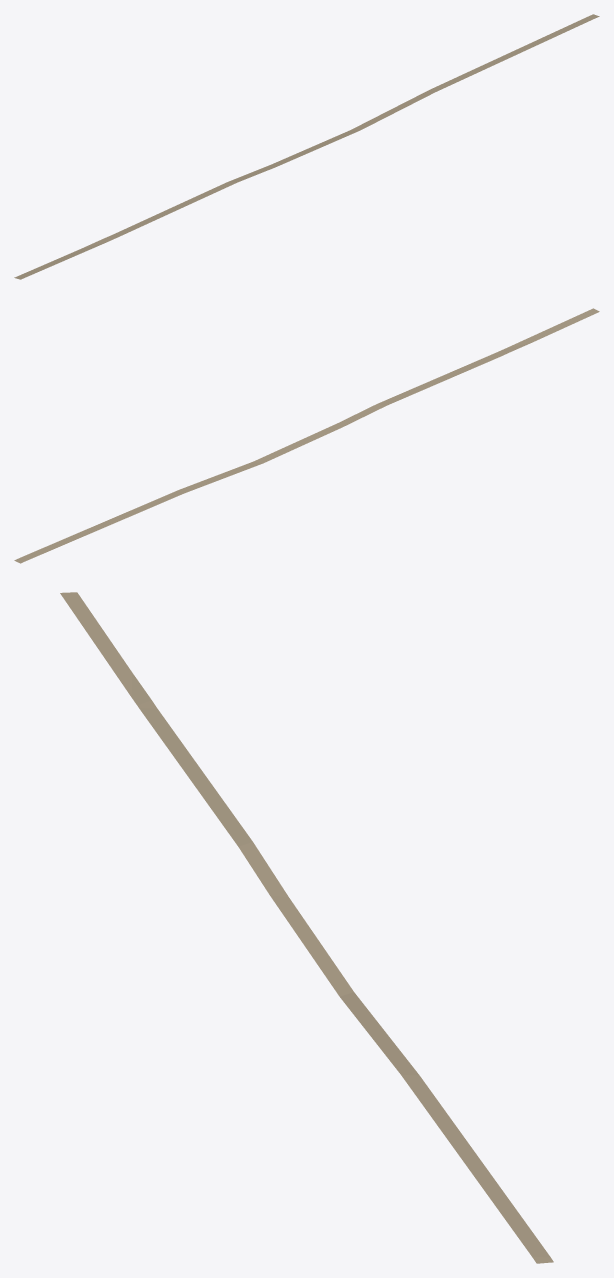
Rendered from farm_7_15_track.glb.
3 views of the same model, one above another, from view 1: azimuth 30°, elevation 25°; view 2: azimuth 210°, elevation 25°; view 3: azimuth 270°, elevation 25° (orthographic). The views are drawn at different scales.
Visible parts, largest first — view 1: geometry_0; view 2: geometry_0; view 3: geometry_0.
Part boxes in pixels (bbox=[...]): geometry_0: bbox=[14, 14, 599, 279]; geometry_0: bbox=[14, 308, 599, 563]; geometry_0: bbox=[60, 592, 553, 1263].
Bounding box in the file's own units: 292 × 3.31 × 89.2.
